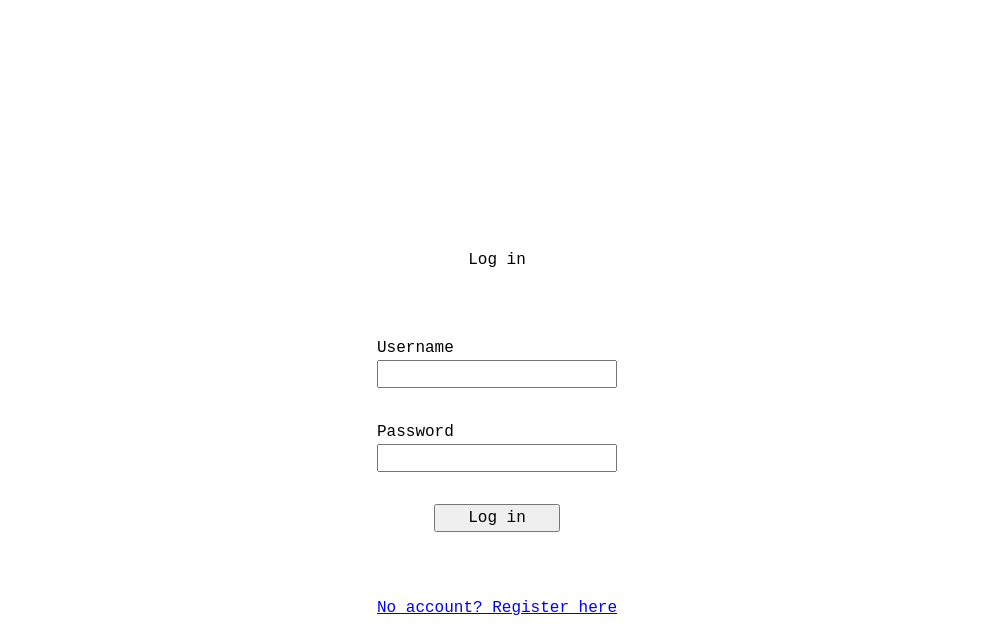
Test: Login component › displays an error on login fetch fail
The width and height of the screenshot is (994, 632).
Type "Username" into the field labelled "Username" at (497, 374), box [377, 360, 617, 388]
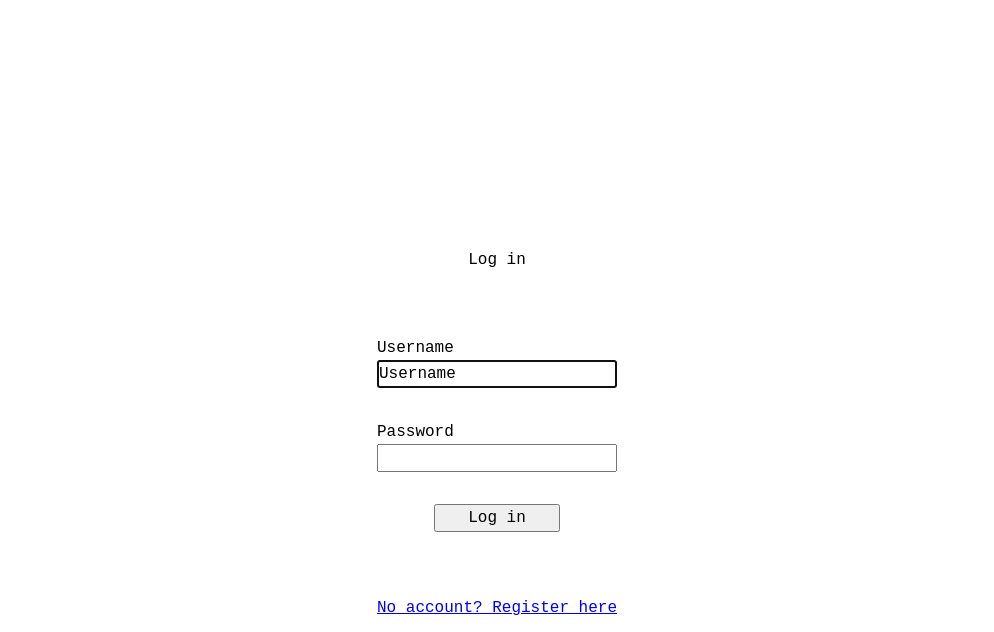
Type "Password" into the field labelled "Password" at (497, 458), box [377, 444, 617, 472]
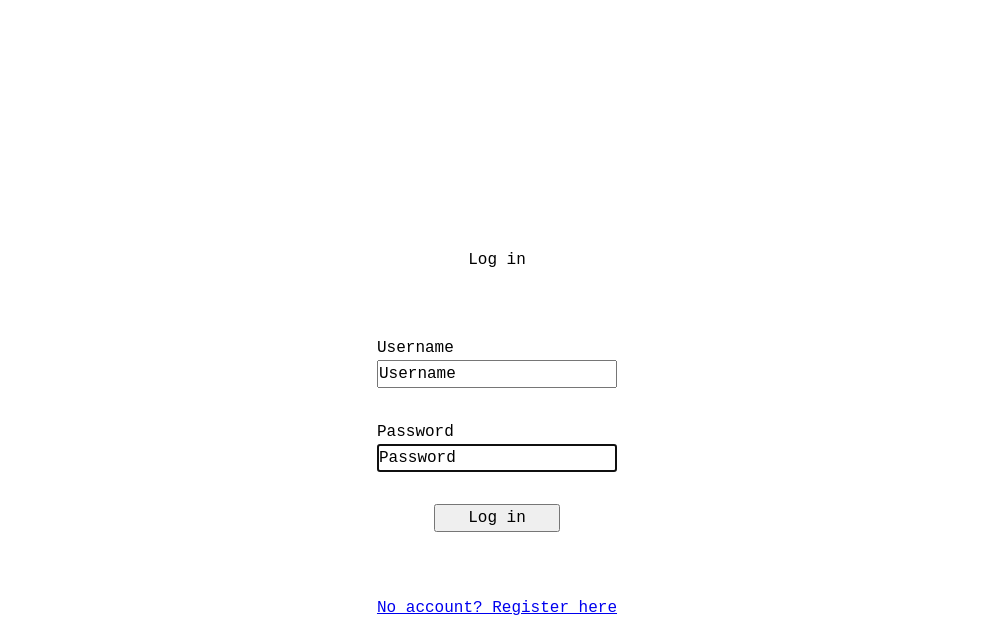
Click the button "Log in" at (497, 518), box [434, 504, 560, 532]
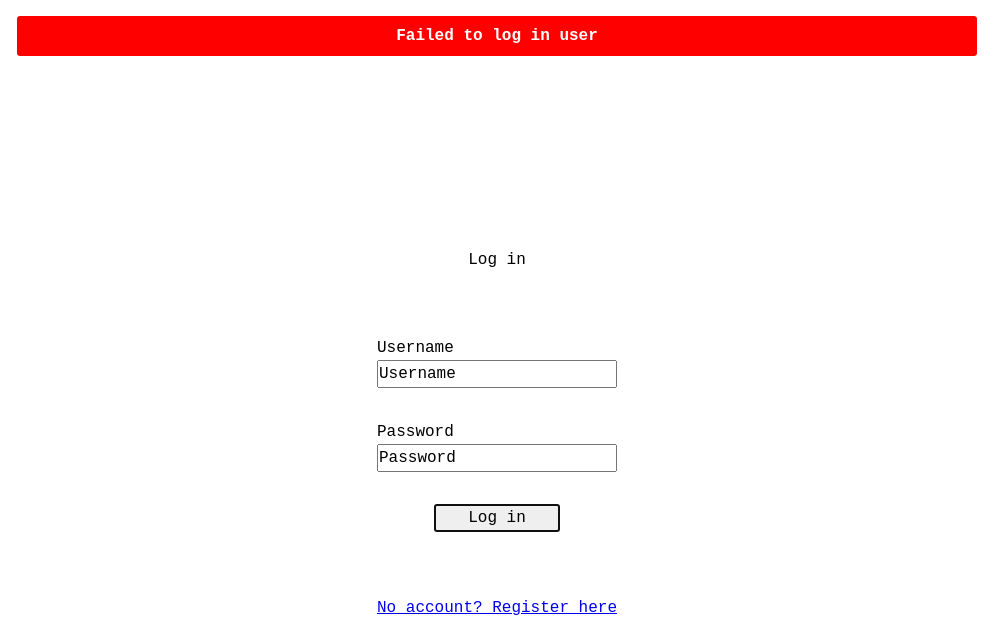
expect the text "Failed to log in user" is shown: met, box [17, 16, 977, 56]
